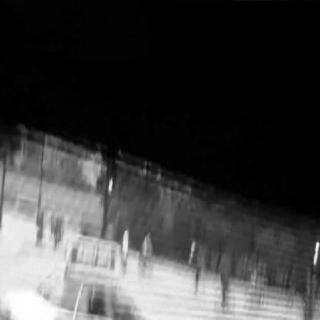other: (6, 218, 186, 314)
